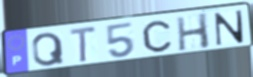5: (104, 20, 136, 59)
C: (141, 19, 174, 53)
H: (174, 11, 212, 52)
N: (214, 9, 246, 47)
Q: (30, 31, 66, 68)
T: (68, 25, 99, 65)
